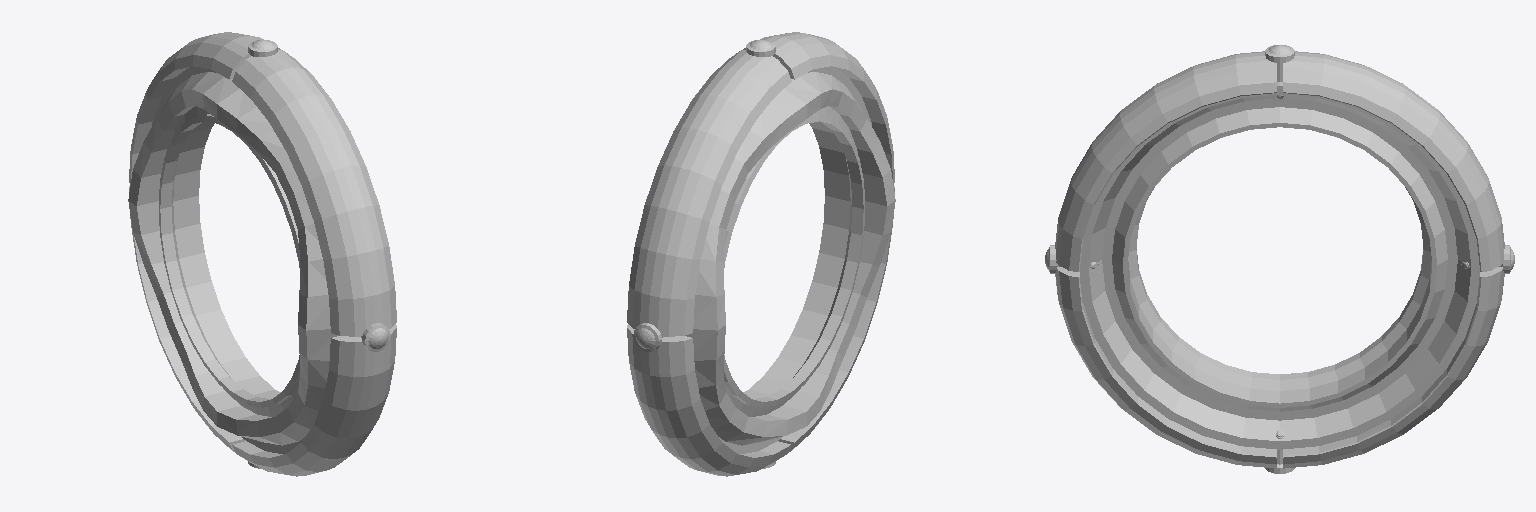
The model's file is CapitalFactoryGate.obj.
3 views of the same model, side by side, from view 1: azimuth 30°, elevation 25°; view 2: azimuth 150°, elevation 25°; view 3: azimuth 270°, elevation 25° (orthographic).
Size of the model in its own units: 0.3202 by 1.68 by 1.68.